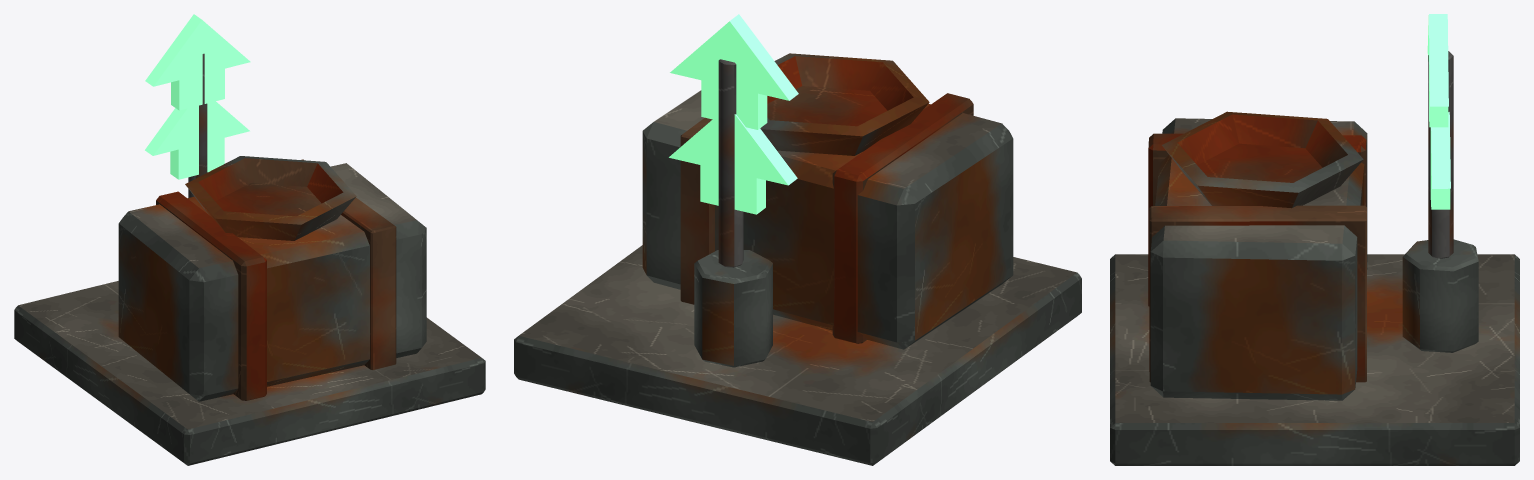
File: R4X_CargoUplink_LOD1.glb
3 renders of one model, left to right at view 1: azimuth 30°, elevation 25°; view 2: azimuth 150°, elevation 25°; view 3: azimuth 270°, elevation 25°, orthographic. The views are drawn at different scales.
Parts seen in each view (by area): view 1: R4X_CargoUplink_LOD1; view 2: R4X_CargoUplink_LOD1; view 3: R4X_CargoUplink_LOD1.
Boxes of the visible parts, x1,y1,x2,y2 form: R4X_CargoUplink_LOD1: (14,14,485,465); R4X_CargoUplink_LOD1: (514,14,1081,465); R4X_CargoUplink_LOD1: (1110,14,1519,465).
Size of the model in its own units: 0.52 by 0.515 by 0.52.
Materials: 5 (4 with a texture image).
